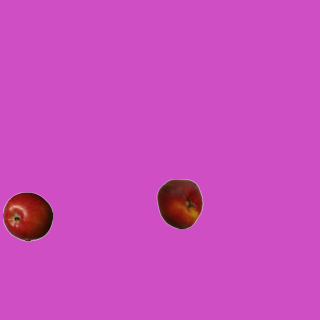Apple Braeburn: (2, 191, 52, 241)
Nectarine Flat: (154, 178, 204, 228)
